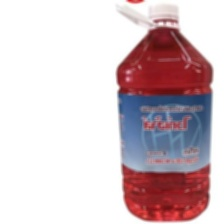cleaning_solution: (113, 1, 215, 222)
